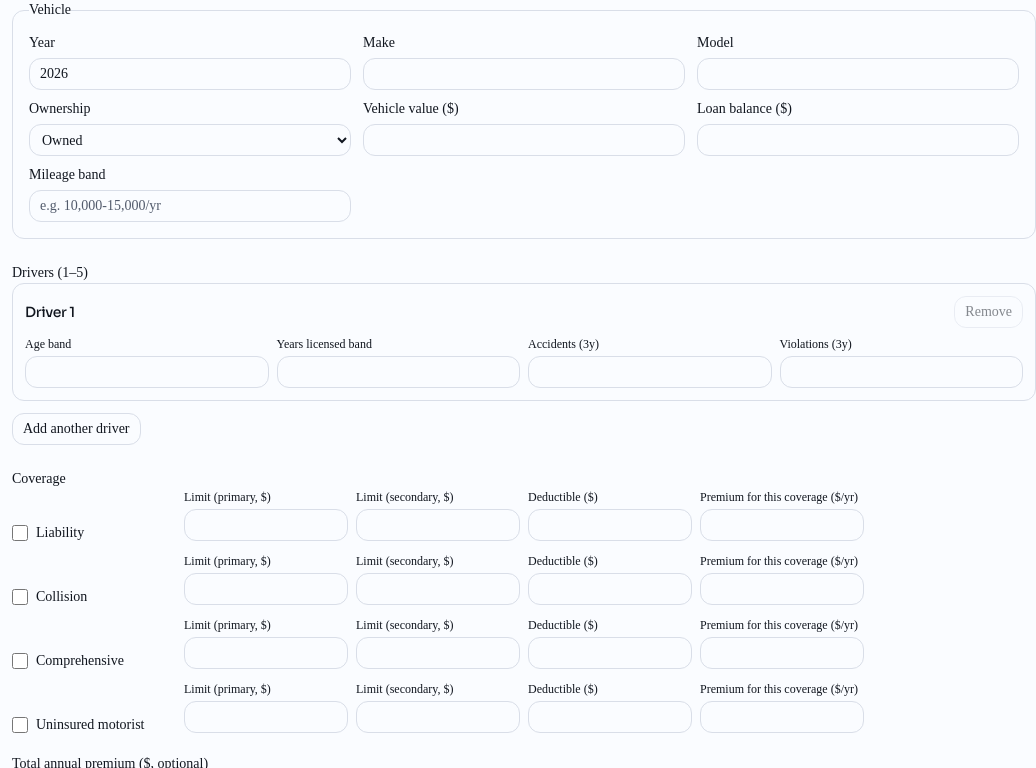
Test case: CarProfile › shows the vehicle & drivers profile summary (CAR-1)
In the field labelled "Make": (524, 74) [363,58,685,90], type "Honda"
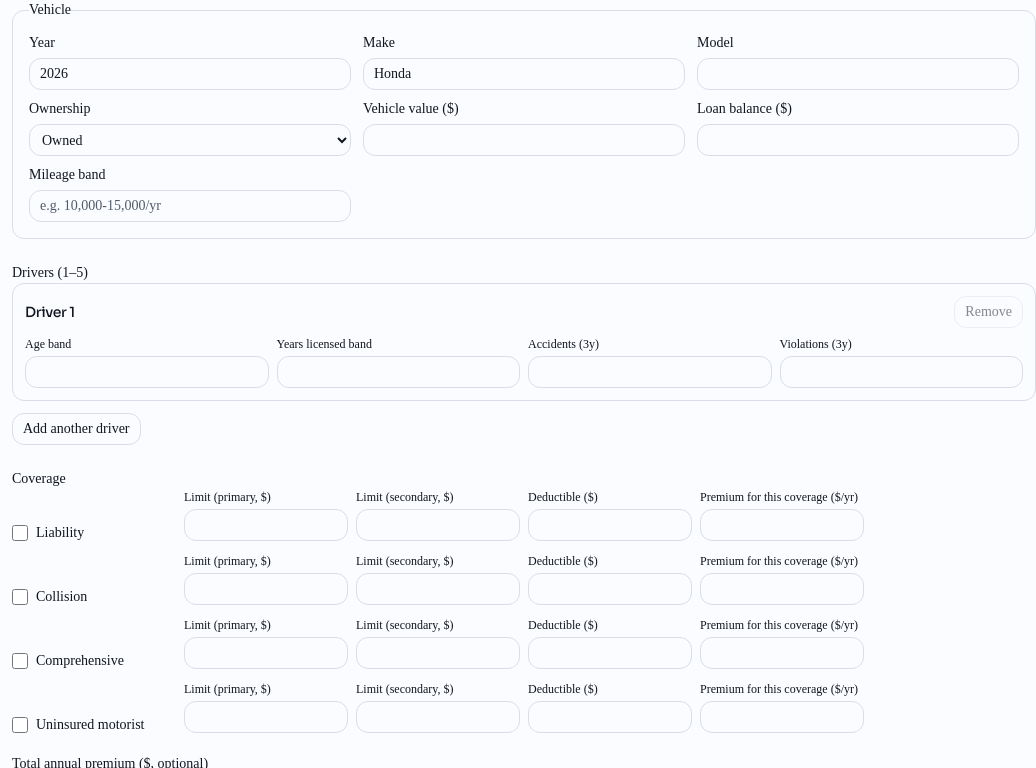
In the field labelled "Model": (858, 74) [697,58,1019,90], type "Civic"
(page scrolled)
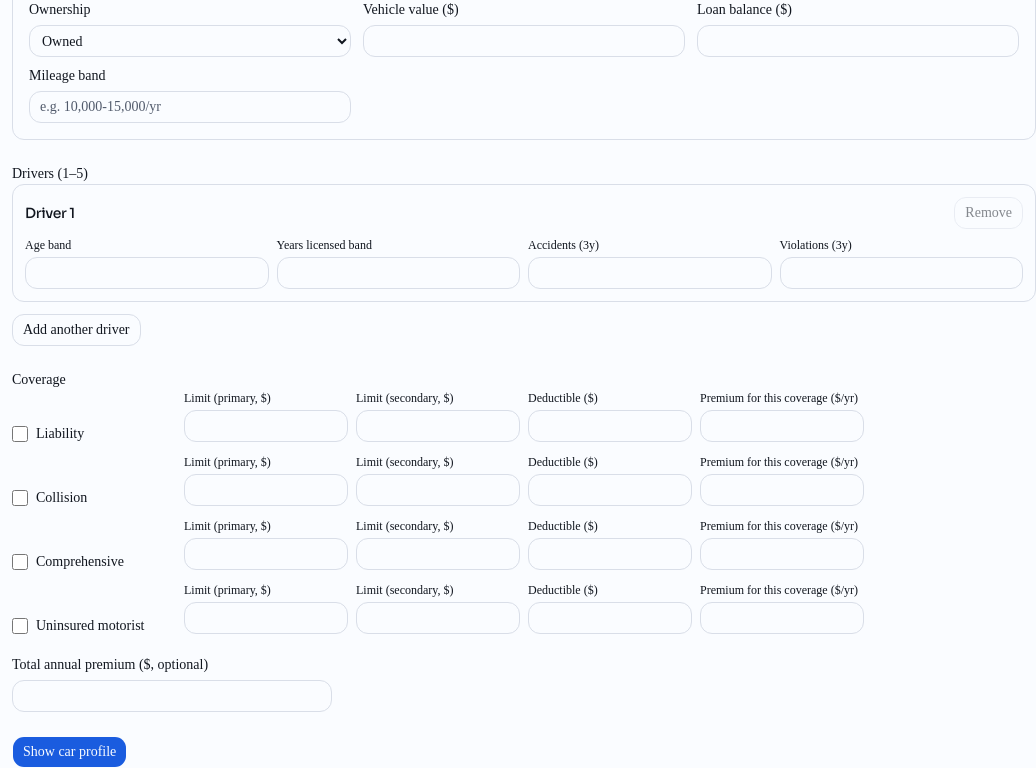
Click the button "Show car profile": (70, 752) [12,736,127,767]
(page scrolled)
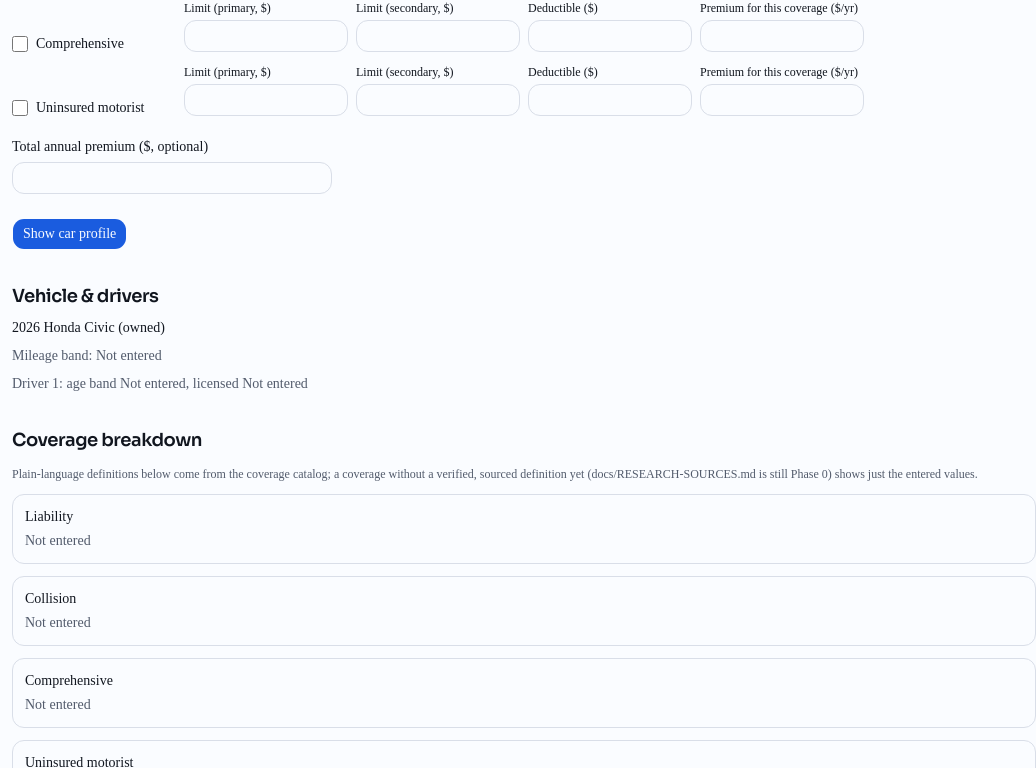
Now the text "2026 Honda Civic (owned)" is shown, box [12,320,165,335]
Now the heading "Vehicle & drivers" is shown, box [12,285,158,307]
Now the list item "Driver 1: age band Not entered, licensed Not entered" is shown, box [12,376,308,391]
